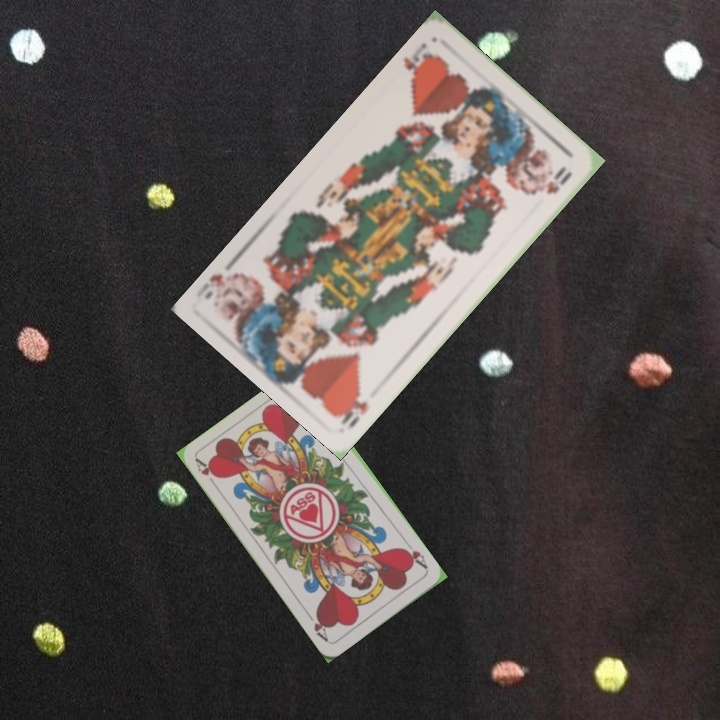HA: (398, 537, 430, 572), (192, 455, 222, 491)
HO: (399, 38, 439, 86), (332, 387, 371, 431)
